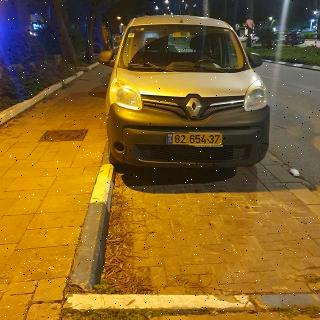LicensePlate: (173, 134, 221, 144)
